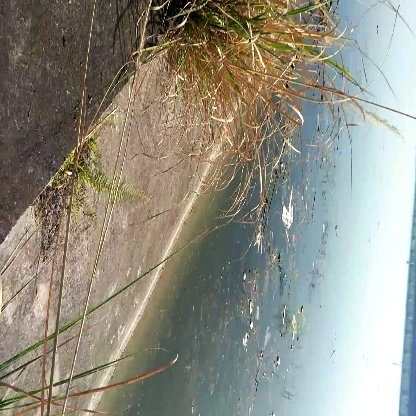plastic-bag: (280, 196, 303, 238)
